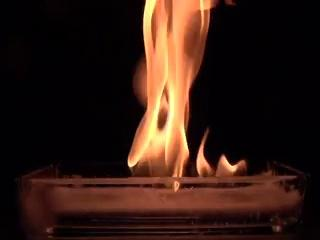Fire: (156, 123, 197, 186)
